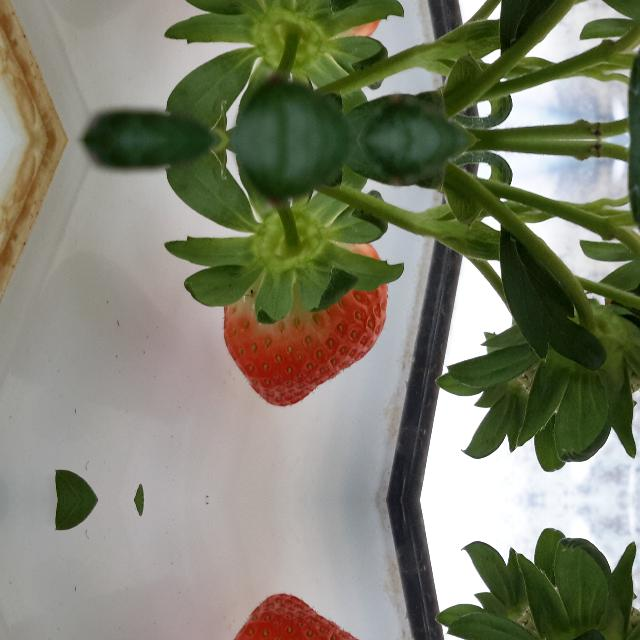Health_100: (224, 243, 388, 407), (223, 593, 388, 640), (223, 0, 388, 37)
